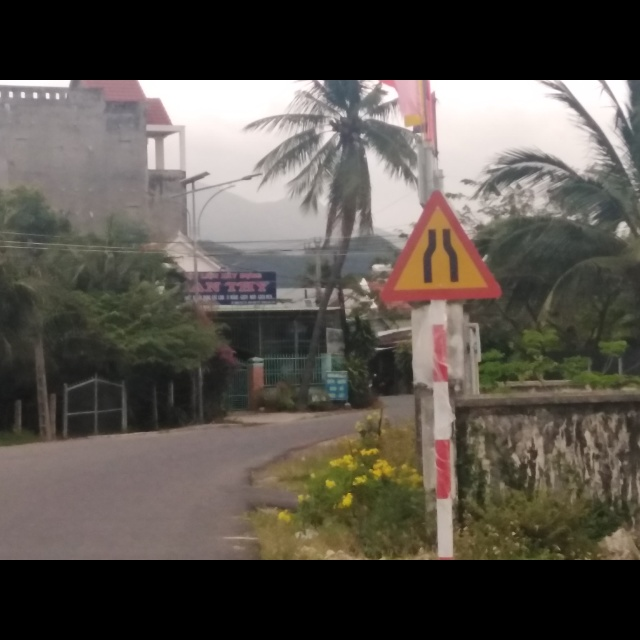Đường bị hẹp cả hai bên: (378, 190, 504, 302)
